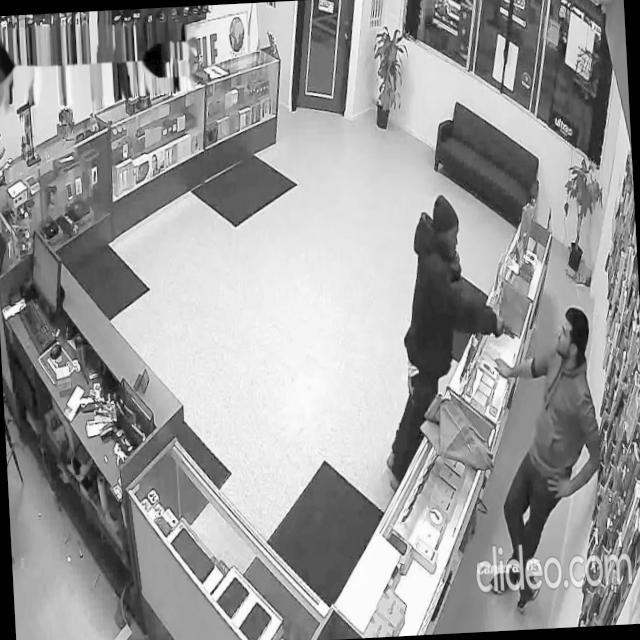gun: (499, 316, 516, 342)
person: (476, 304, 612, 614)
person with a gun: (373, 190, 524, 497)
